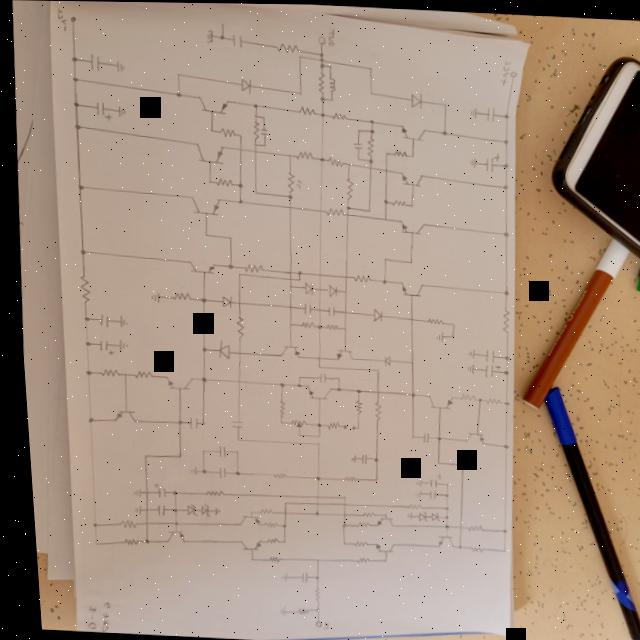capacitor: (479, 151, 499, 173), (91, 100, 111, 121), (93, 337, 110, 357), (476, 361, 496, 378), (477, 345, 494, 362), (86, 52, 100, 72), (418, 471, 434, 487), (146, 481, 160, 499), (482, 104, 495, 123), (92, 312, 106, 329), (182, 415, 194, 430), (289, 570, 301, 584), (210, 445, 222, 459), (230, 34, 242, 48), (224, 418, 238, 429), (208, 466, 220, 478), (149, 503, 159, 517), (414, 430, 424, 443), (321, 305, 331, 317), (297, 302, 307, 314), (352, 452, 361, 464), (349, 141, 361, 150), (311, 370, 320, 382), (257, 125, 266, 136), (421, 488, 429, 499)
crossover: (169, 418, 177, 426), (337, 307, 344, 314), (312, 270, 318, 277), (310, 354, 317, 360), (283, 203, 290, 209), (404, 315, 411, 321), (135, 507, 142, 513), (338, 272, 344, 278), (312, 285, 318, 291), (369, 388, 375, 394), (380, 167, 386, 173), (450, 522, 456, 528), (136, 521, 142, 527), (312, 306, 317, 312), (314, 207, 319, 213), (136, 490, 141, 496), (330, 387, 336, 391), (334, 512, 340, 516), (274, 509, 280, 513), (366, 164, 370, 169), (284, 276, 289, 280), (335, 501, 339, 506), (231, 379, 235, 384), (342, 212, 346, 216), (236, 147, 240, 151), (284, 270, 288, 274), (232, 301, 236, 305), (308, 501, 312, 505), (308, 494, 312, 498), (381, 151, 385, 155), (344, 161, 348, 165), (251, 149, 255, 153), (231, 350, 235, 354)
diode: (405, 91, 423, 108), (212, 341, 226, 360), (191, 500, 205, 519), (235, 77, 250, 93), (365, 306, 380, 321), (215, 294, 229, 309), (322, 283, 335, 299), (297, 281, 310, 295), (177, 504, 191, 516), (409, 510, 421, 522), (422, 511, 434, 522), (377, 355, 387, 365)
ground: (144, 290, 157, 304), (464, 153, 475, 169), (203, 28, 213, 44), (113, 59, 124, 72), (114, 104, 125, 117), (113, 339, 124, 352), (429, 330, 442, 340), (468, 105, 477, 119), (114, 316, 124, 328), (125, 504, 135, 516), (460, 346, 469, 358), (270, 571, 280, 581), (460, 363, 470, 373), (270, 605, 279, 616), (125, 487, 134, 497), (204, 505, 214, 514), (405, 489, 414, 498), (183, 466, 193, 474), (342, 453, 350, 463), (396, 510, 405, 518), (407, 478, 415, 486)
inductor: (325, 71, 337, 94)
junction: (192, 466, 200, 476), (68, 55, 77, 63), (499, 136, 508, 144), (402, 357, 410, 366), (74, 247, 82, 256), (80, 416, 89, 424), (70, 100, 78, 108), (500, 111, 508, 119), (173, 90, 181, 98), (282, 192, 290, 200), (434, 521, 442, 529), (498, 229, 506, 237), (497, 288, 505, 296), (496, 368, 504, 376), (306, 475, 315, 482), (195, 296, 202, 304), (438, 129, 446, 136), (365, 118, 373, 125), (194, 376, 202, 383), (71, 122, 78, 130), (192, 447, 199, 455), (364, 455, 372, 462), (83, 522, 90, 529), (70, 76, 77, 83), (77, 315, 84, 322), (308, 421, 315, 428), (428, 434, 435, 441), (336, 324, 343, 331), (74, 184, 81, 191), (376, 278, 384, 284), (498, 183, 506, 189), (79, 340, 85, 348), (228, 437, 236, 443), (196, 346, 202, 353), (223, 263, 230, 269), (403, 391, 410, 397), (223, 234, 229, 241), (440, 100, 447, 106), (365, 476, 372, 482), (451, 461, 458, 467), (499, 161, 506, 167), (445, 320, 451, 327), (443, 332, 449, 339), (292, 269, 299, 275), (283, 304, 290, 310), (378, 214, 384, 221), (317, 51, 324, 57), (234, 182, 241, 188), (366, 127, 373, 133), (226, 469, 232, 476), (85, 541, 92, 547), (239, 555, 246, 561), (307, 440, 314, 446), (273, 522, 280, 528), (493, 526, 500, 532), (496, 443, 502, 450), (498, 353, 503, 361), (135, 453, 141, 459), (169, 453, 175, 459), (234, 198, 240, 204), (136, 538, 142, 544), (366, 65, 372, 71), (199, 232, 205, 238), (366, 89, 372, 95), (429, 459, 435, 465), (403, 433, 409, 439), (282, 321, 288, 327), (283, 284, 289, 290), (380, 199, 386, 205), (362, 206, 368, 212), (342, 204, 348, 210), (404, 202, 410, 208), (317, 95, 323, 101), (316, 156, 322, 162), (218, 34, 224, 40), (80, 370, 86, 376), (195, 421, 201, 427), (116, 371, 122, 377), (227, 449, 233, 455), (165, 490, 171, 496), (165, 520, 171, 526), (306, 510, 312, 516), (334, 494, 340, 500), (493, 546, 499, 552), (498, 399, 504, 405), (471, 395, 477, 401), (164, 507, 171, 512), (348, 388, 356, 392), (404, 259, 410, 264), (173, 72, 179, 77), (206, 127, 212, 132), (311, 322, 316, 328), (274, 382, 279, 388), (273, 536, 278, 542), (274, 500, 280, 505), (305, 606, 311, 611), (317, 58, 324, 62), (373, 557, 380, 561), (379, 256, 384, 261), (291, 277, 297, 281), (317, 63, 323, 67), (251, 102, 257, 106), (258, 115, 264, 119), (369, 367, 375, 371), (365, 158, 371, 162), (436, 504, 440, 510), (435, 493, 441, 497), (450, 542, 454, 548), (334, 539, 338, 545), (333, 523, 339, 527), (319, 111, 323, 116), (327, 96, 332, 100), (291, 384, 296, 388), (292, 375, 297, 379), (311, 363, 316, 367), (272, 419, 277, 423), (290, 432, 295, 436), (241, 510, 245, 515), (307, 558, 312, 562), (297, 54, 301, 58), (296, 90, 300, 94), (285, 153, 289, 157), (250, 190, 254, 194), (259, 142, 263, 146), (250, 142, 254, 146), (251, 114, 255, 118), (236, 134, 240, 138), (331, 376, 335, 380), (407, 153, 411, 157), (353, 156, 357, 160), (354, 128, 358, 132), (204, 179, 208, 183), (310, 434, 314, 438), (233, 272, 237, 276), (437, 514, 441, 518), (437, 482, 441, 486), (306, 575, 310, 579), (375, 512, 379, 516), (326, 64, 330, 67), (350, 424, 353, 428)
resistor: (73, 273, 87, 303), (272, 41, 299, 54), (339, 175, 352, 201), (282, 169, 294, 197), (495, 306, 507, 332), (294, 104, 316, 117), (229, 315, 242, 337), (347, 272, 370, 284), (211, 176, 232, 189), (166, 291, 188, 303), (314, 71, 326, 93), (93, 367, 115, 379), (322, 156, 342, 169), (290, 150, 313, 161), (214, 127, 237, 138), (365, 401, 377, 421), (320, 205, 340, 217), (284, 416, 302, 429), (238, 263, 261, 273), (126, 370, 148, 380), (363, 134, 373, 156), (328, 110, 348, 121), (112, 518, 130, 530), (420, 316, 440, 326), (387, 148, 407, 158), (271, 400, 281, 420), (113, 535, 131, 546), (458, 523, 477, 533), (347, 399, 358, 416), (264, 469, 281, 480), (459, 542, 477, 552), (197, 489, 217, 498), (249, 121, 258, 140), (303, 584, 313, 601), (343, 537, 360, 547), (399, 499, 416, 509), (478, 395, 495, 405), (295, 319, 310, 330), (250, 506, 268, 515), (346, 554, 362, 564), (387, 197, 404, 206), (452, 392, 469, 401), (353, 509, 369, 518), (320, 420, 334, 430), (346, 520, 363, 528), (336, 474, 351, 483), (288, 606, 301, 615), (254, 520, 270, 527), (256, 536, 270, 544), (259, 555, 272, 563), (320, 323, 334, 330)
terminal: (508, 67, 518, 79), (336, 423, 349, 430), (317, 35, 325, 45), (304, 620, 312, 629), (69, 15, 76, 24), (219, 23, 223, 27)
text: (498, 58, 511, 84), (55, 7, 67, 31), (326, 26, 336, 46), (292, 177, 300, 188), (313, 622, 320, 628)
transistor: (189, 140, 224, 166), (194, 92, 228, 115), (185, 195, 217, 217), (397, 121, 427, 142), (156, 373, 192, 390), (419, 392, 449, 412), (392, 278, 420, 299), (269, 341, 299, 360), (181, 258, 213, 275), (394, 217, 423, 235), (325, 344, 351, 363), (457, 426, 481, 446), (105, 407, 133, 424), (299, 383, 327, 400), (395, 169, 421, 186), (364, 540, 391, 555), (156, 528, 179, 545), (427, 532, 449, 549), (230, 537, 254, 552), (228, 513, 252, 528), (366, 515, 388, 528)
